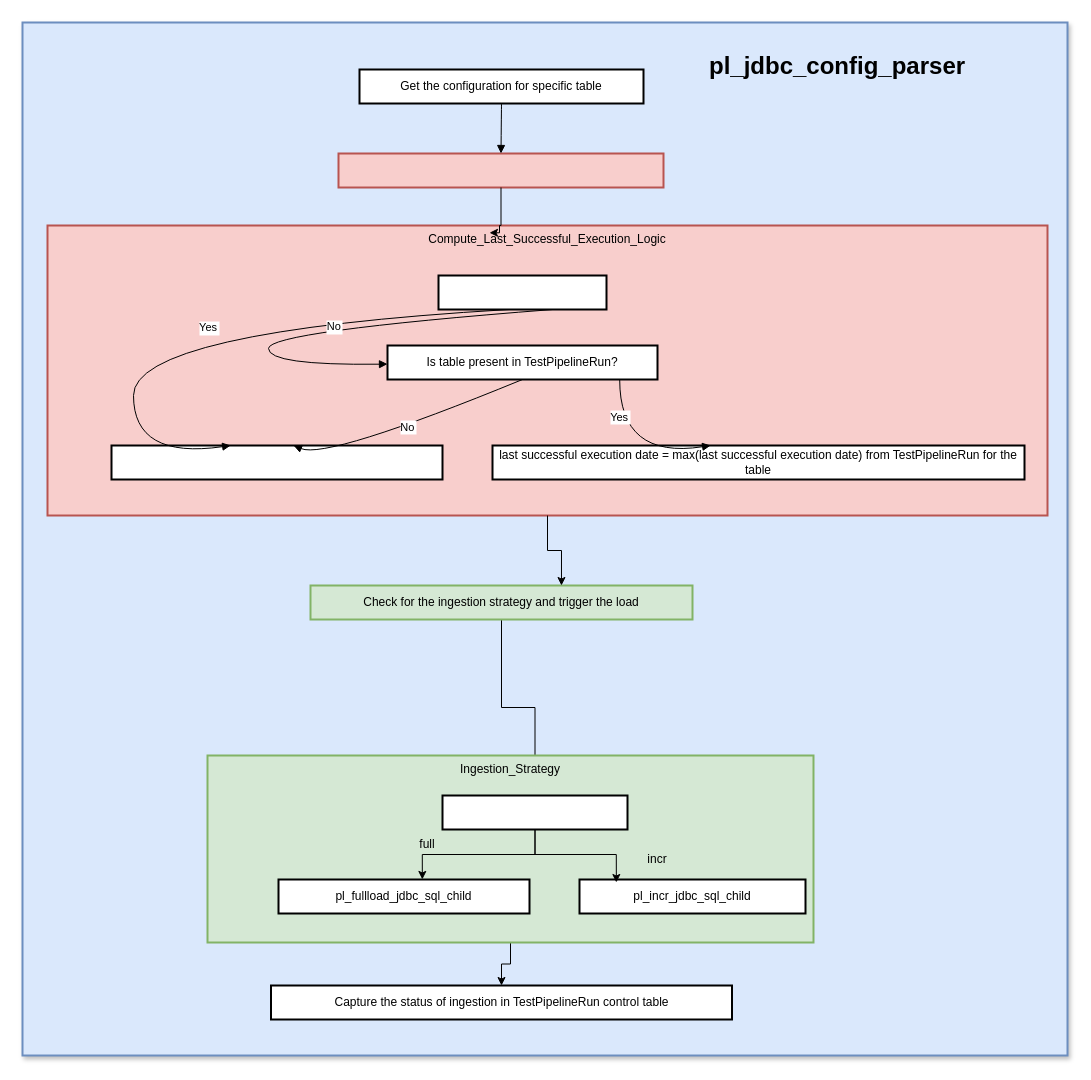
Image size: 1091x1080. Some labels were removed from this diagram. The centre of each missing label's shape, as x and y in pixels:
Compute the last successful execution logic: (x=500, y=170)
dataLoadingBehavior== 'incr': (x=534, y=812)
Is first load flag True?: (x=522, y=292)
last successful execution date = -1: (x=276, y=462)
